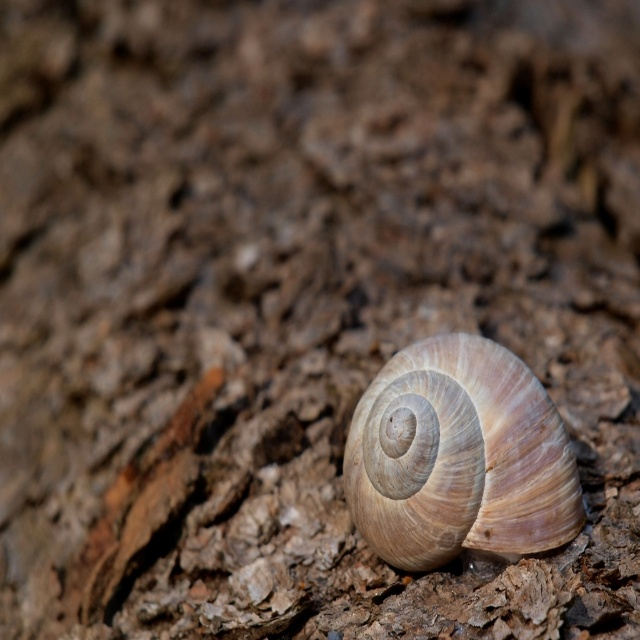Snail: (340, 329, 590, 580)
